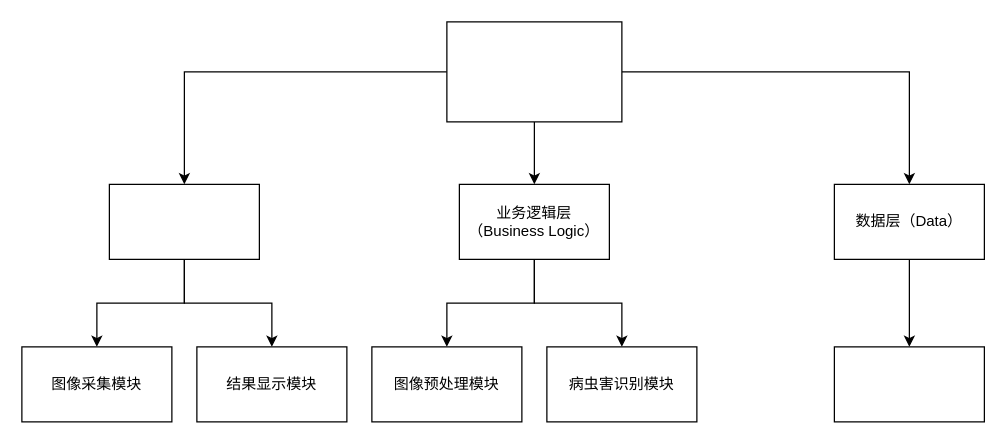
This 1006x444 diagram has some shape labels left out. The centre of each missing label's shape, as x and y in pixels:
数据存储模块: pixel 908 384
玉米叶片病虫害识别系统: pixel 534 71
用户界面层（UI）: pixel 183 221
